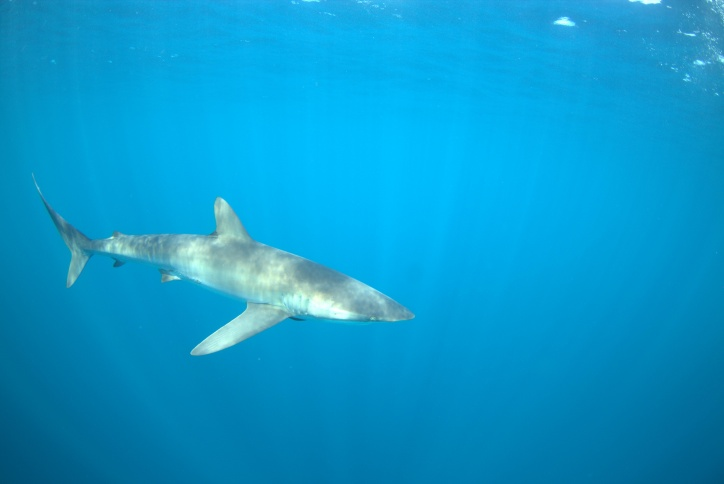Sedoso: (23, 168, 426, 364)
